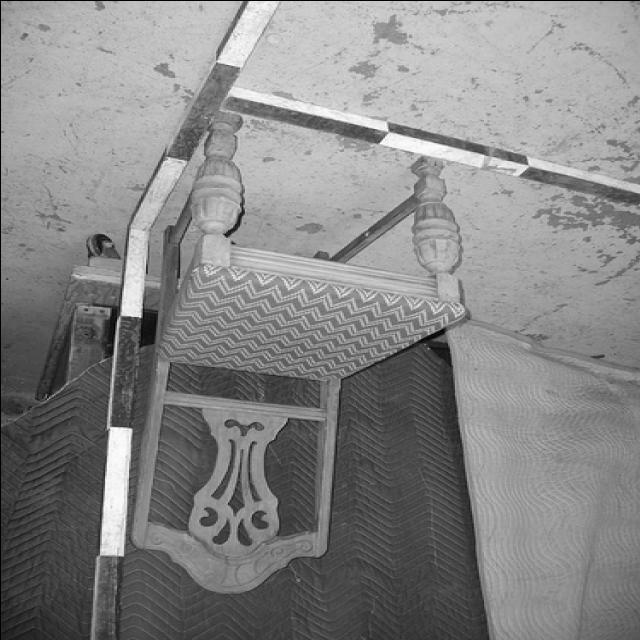chair: (118, 114, 467, 598)
